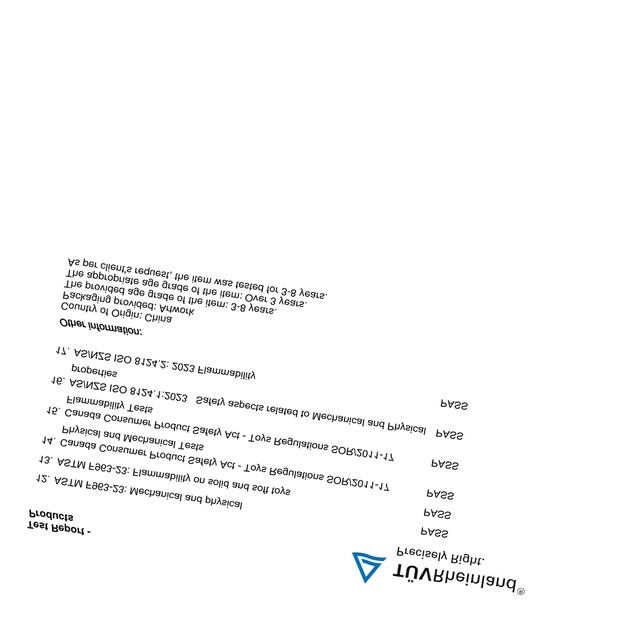tuv_rheinland: (350, 548, 528, 601)
